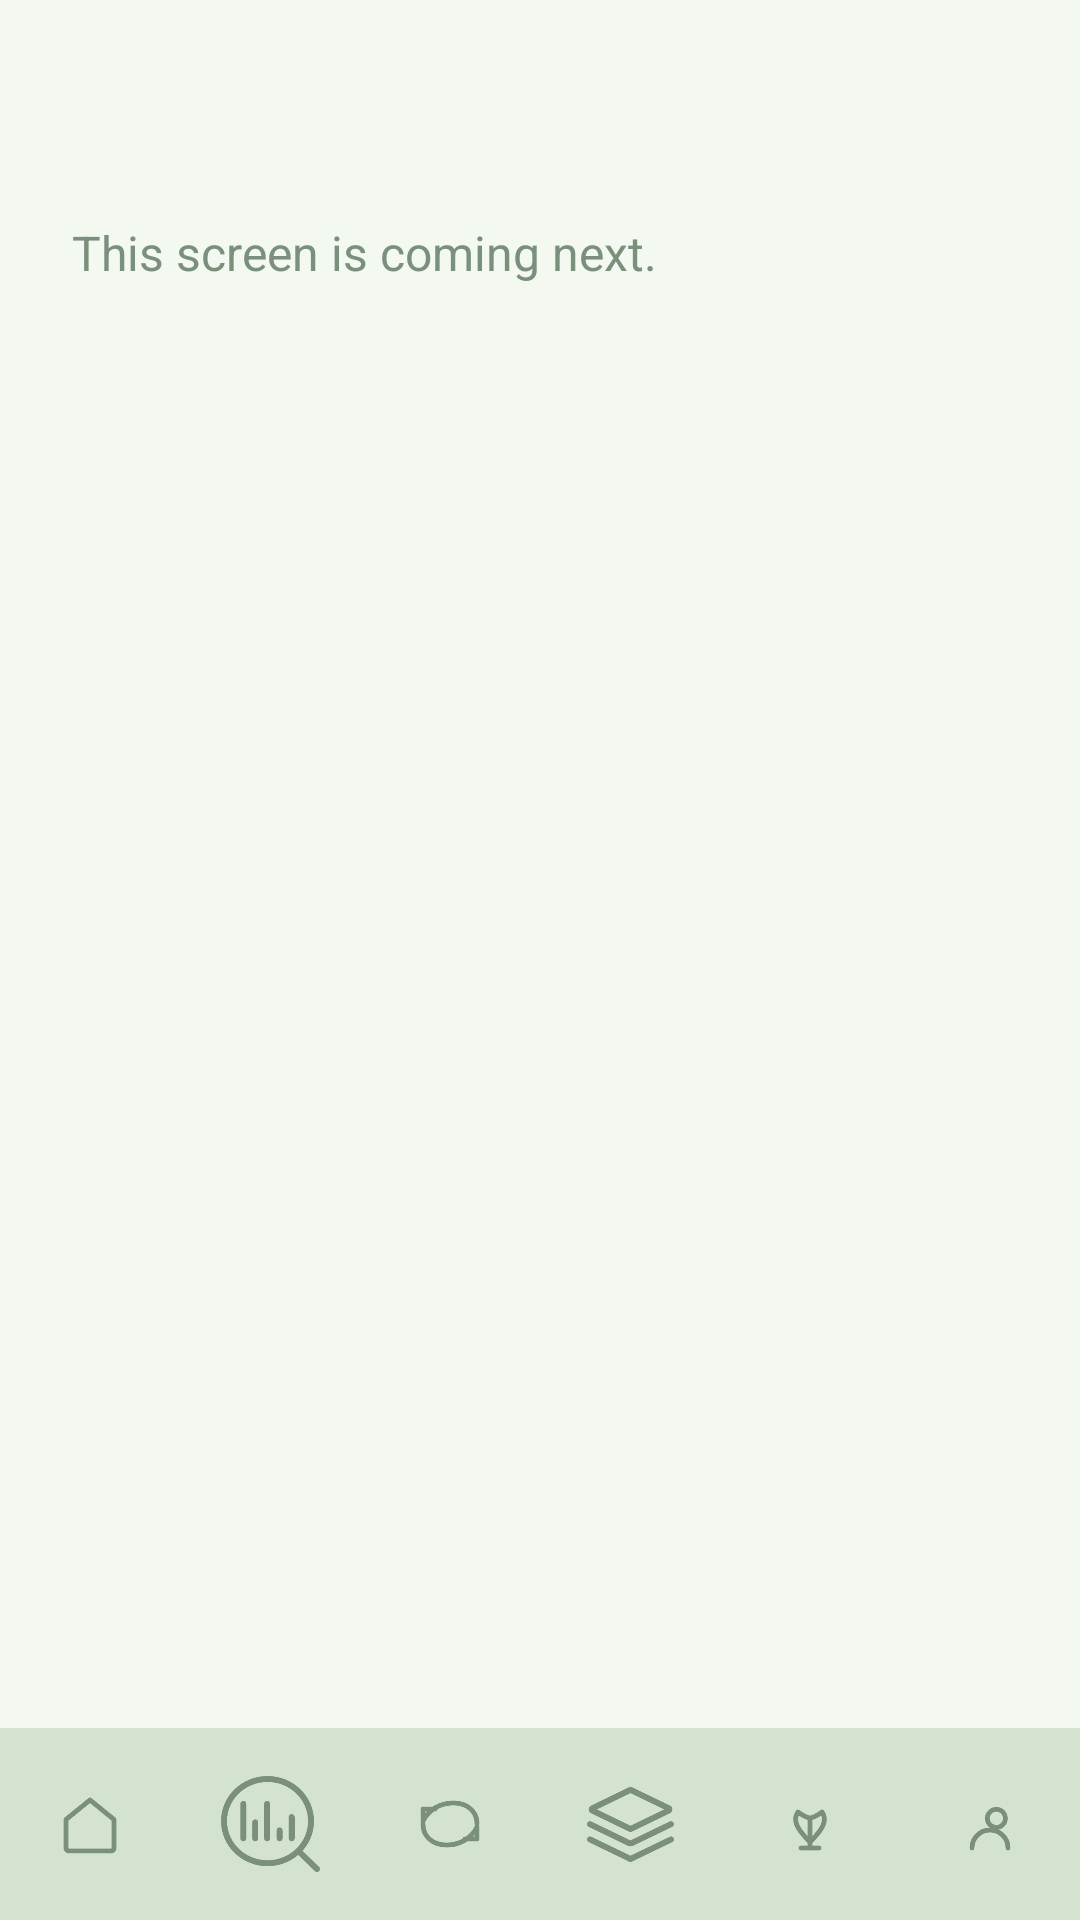

Point at icon controls on the screen. Image size 1080 x 1920, points as point (x, y).
Analytics: point (270, 1824)
Categories: point (630, 1824)
Goals: point (810, 1830)
Home: point (90, 1825)
Profile: point (990, 1828)
Transactions: point (450, 1824)
